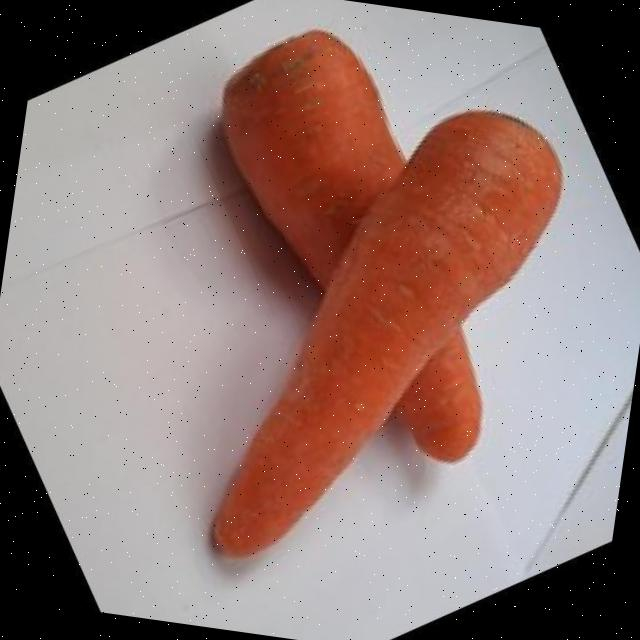carrot: (216, 111, 561, 556), (222, 30, 481, 463)
